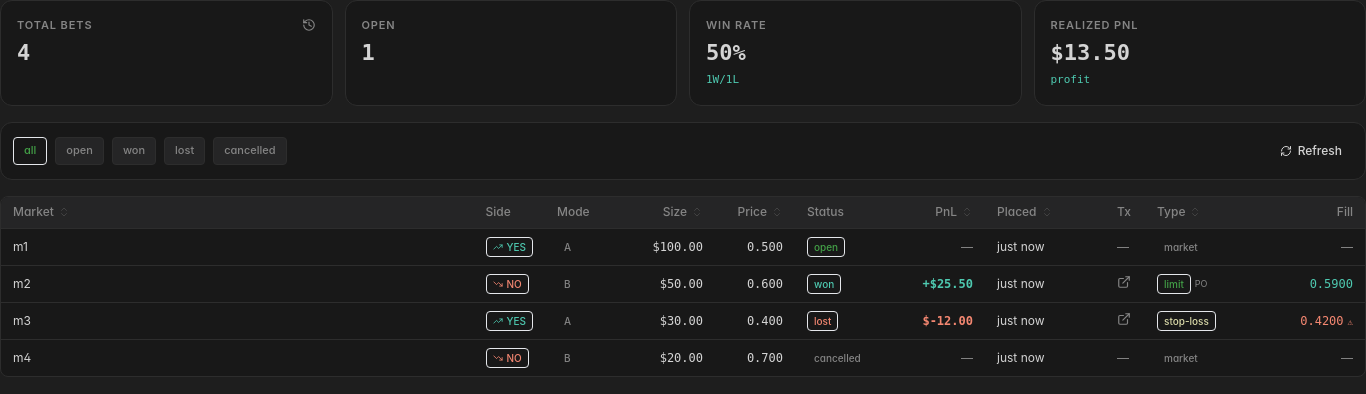
Scenario: History (extended) › filters to only open when open chip is clicked
The image size is (1366, 394).
Check: the link "m1" is shown, box top-left (13, 239), bottom-right (28, 254)
Step 1. Click the button "open" → (80, 150), box top-left (55, 136), bottom-right (104, 164)
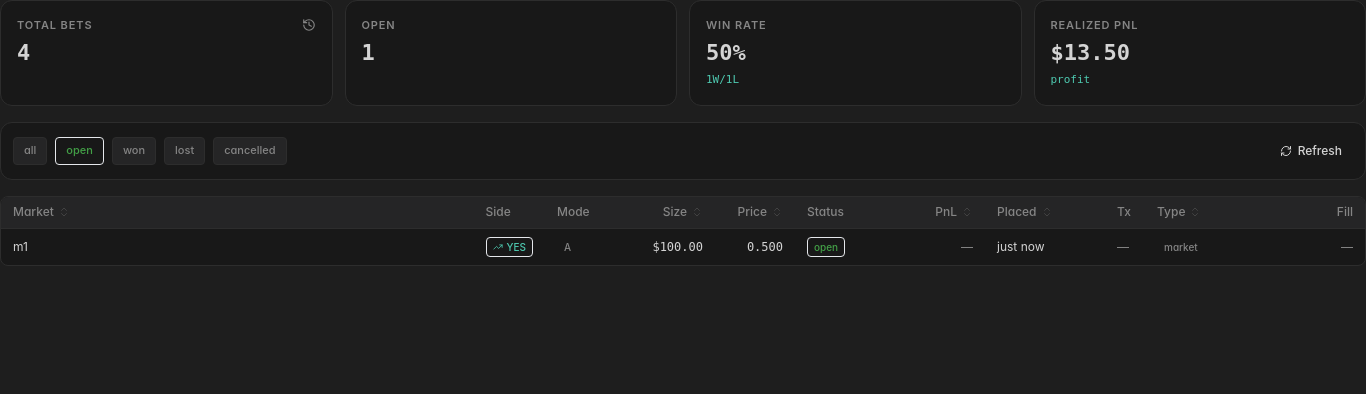
Check: the link "m1" is shown, box top-left (13, 239), bottom-right (28, 254)
Check: the link "m2" is gone
